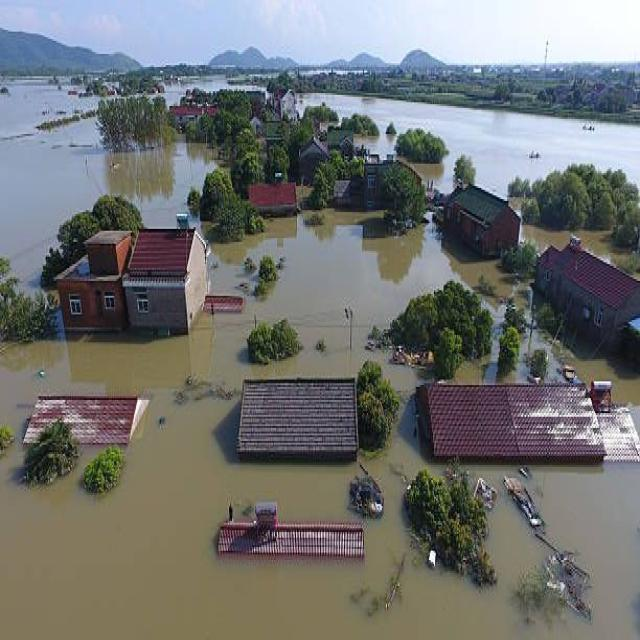flooded_areas: (43, 95, 639, 638)
